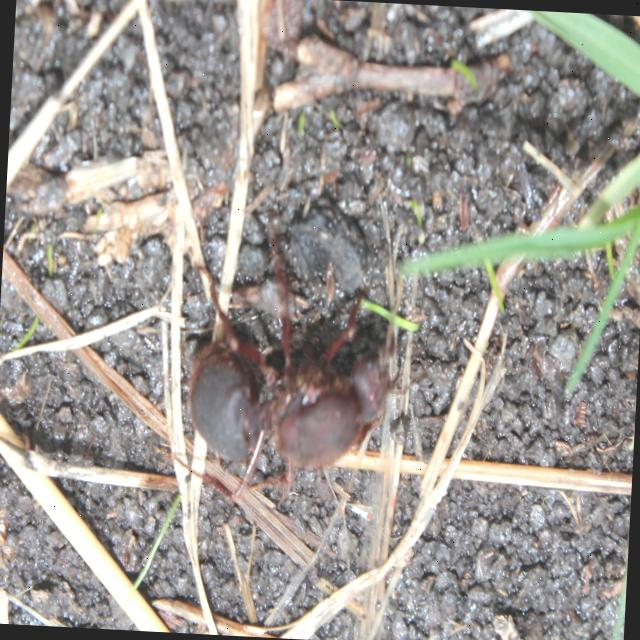Alive-Female-Dealate: (148, 232, 434, 512)
